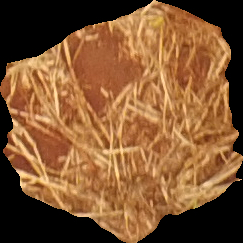soil: (2, 1, 241, 240)
